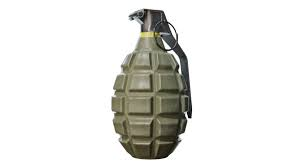bomb: (108, 8, 193, 160)
